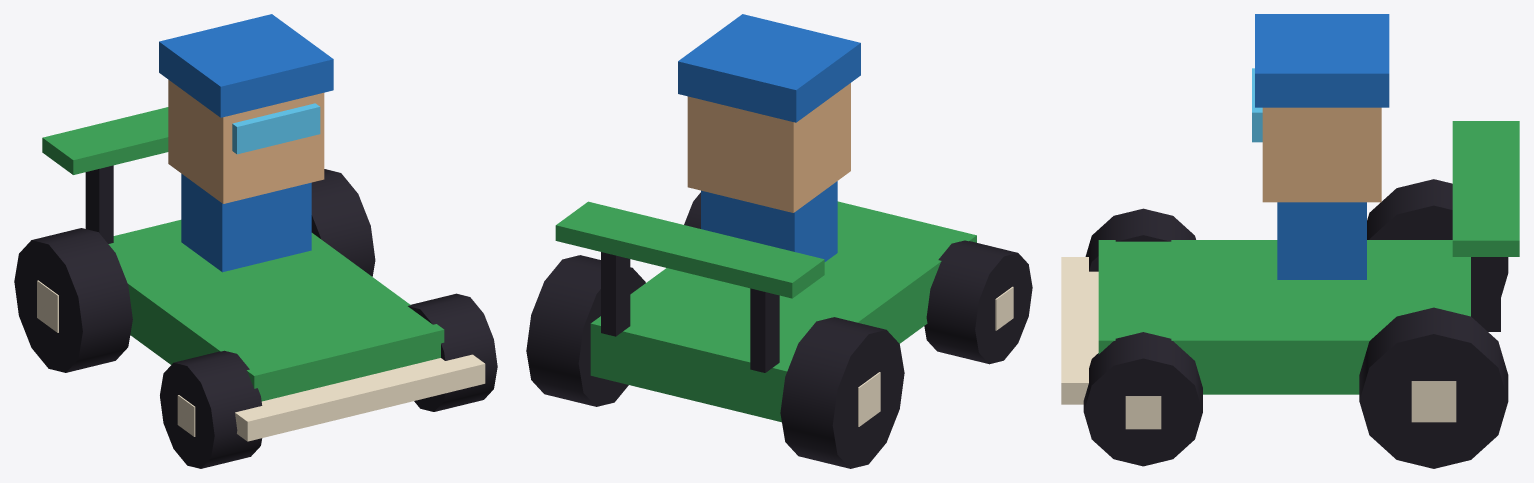
The model's file is blocky-kart.glb.
3 renders of one model, left to right at view 1: azimuth 30°, elevation 25°; view 2: azimuth 150°, elevation 25°; view 3: azimuth 270°, elevation 25°, orthographic. The views are drawn at different scales.
Parts seen in each view (by area): view 1: body, head, wheel_rr, driver, wheel_fr, wheel_fl, wheel_rl; view 2: body, head, wheel_rr, wheel_fr, wheel_rl, driver; view 3: body, head, wheel_rl, wheel_fl, driver, wheel_rr, wheel_fr.
Boxes of the visible parts, bbox=[...] form: body: bbox=[42, 107, 485, 441]; head: bbox=[159, 14, 333, 203]; wheel_rr: bbox=[14, 228, 132, 372]; driver: bbox=[181, 173, 311, 272]; wheel_fr: bbox=[160, 350, 262, 468]; wheel_fl: bbox=[408, 293, 497, 411]; wheel_rl: bbox=[311, 169, 375, 276]; body: bbox=[555, 201, 976, 422]; head: bbox=[678, 14, 860, 212]; wheel_rr: bbox=[780, 317, 904, 468]; wheel_fr: bbox=[924, 240, 1032, 364]; wheel_rl: bbox=[526, 255, 645, 406]; driver: bbox=[701, 181, 837, 261]; body: bbox=[1061, 121, 1519, 404]; head: bbox=[1252, 14, 1389, 202]; wheel_rl: bbox=[1359, 307, 1508, 468]; wheel_fl: bbox=[1083, 332, 1202, 466]; driver: bbox=[1277, 202, 1366, 279]; wheel_rr: bbox=[1367, 179, 1508, 296]; wheel_fr: bbox=[1085, 208, 1195, 271].
Bounding box in the file's own units: 2.48 × 2.57 × 3.07.
